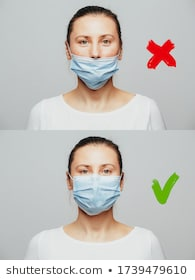mask_weared_incorrect: (72, 30, 117, 86)
with_mask: (73, 157, 120, 218)
